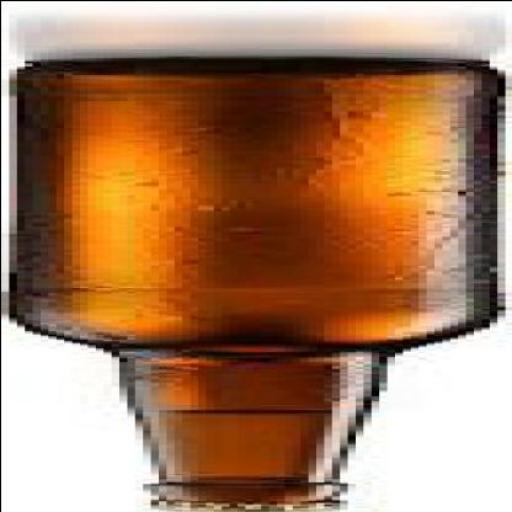glass: (7, 58, 511, 504)
metal: (158, 503, 363, 511)
